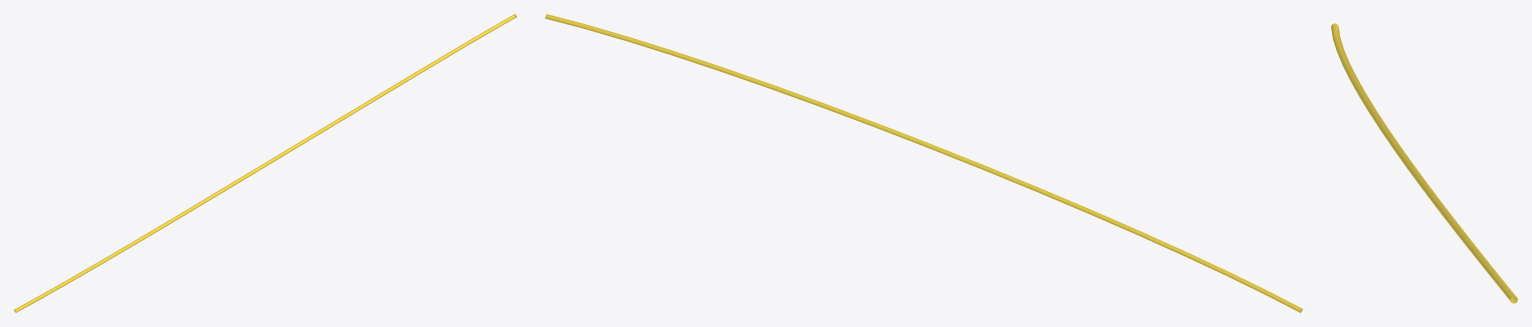
The model's file is Event_15818458_track_38.fbx.
3 renders of one model, left to right at view 1: azimuth 30°, elevation 25°; view 2: azimuth 150°, elevation 25°; view 3: azimuth 270°, elevation 25°, orthographic. The views are drawn at different scales.
Visible parts, largest first — view 1: Model; view 2: Model; view 3: Model.
Part boxes in pixels (box(x1,y1,x2,y2)): Model: box(14, 14, 516, 312); Model: box(545, 14, 1302, 312); Model: box(1331, 23, 1517, 303).
Bounding box in the file's own units: 6.61 × 1.54 × 0.9787.
